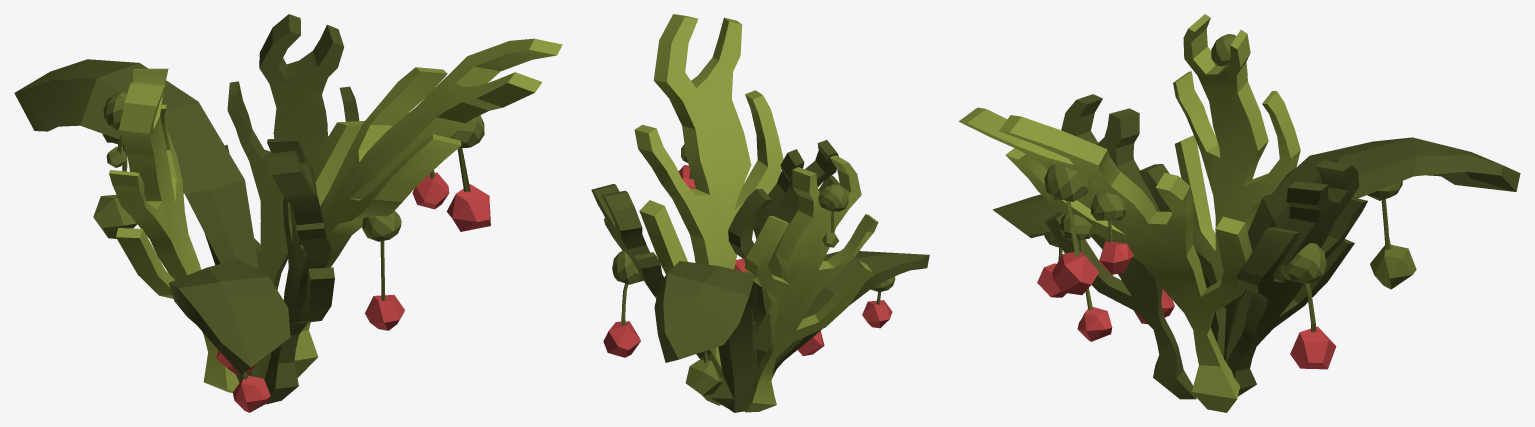
File: ea_swamp_leaffruits_01a_pre__9__3_lev1.glb
3 views of the same model, side by side, from view 1: azimuth 30°, elevation 25°; view 2: azimuth 150°, elevation 25°; view 3: azimuth 270°, elevation 25° (orthographic). The views are drawn at different scales.
Parts seen in each view (by area): view 1: ea_swamp_leaffruits_01a_pre__9__3_lev1; view 2: ea_swamp_leaffruits_01a_pre__9__3_lev1; view 3: ea_swamp_leaffruits_01a_pre__9__3_lev1.
Boxes of the visible parts, x1,y1,x2,y2 form: ea_swamp_leaffruits_01a_pre__9__3_lev1: (14, 14, 562, 412); ea_swamp_leaffruits_01a_pre__9__3_lev1: (591, 14, 929, 412); ea_swamp_leaffruits_01a_pre__9__3_lev1: (959, 14, 1520, 412).
Size of the model in its own units: 1.13 by 1.15 by 1.62.
Materials: 1 (1 with a texture image).
